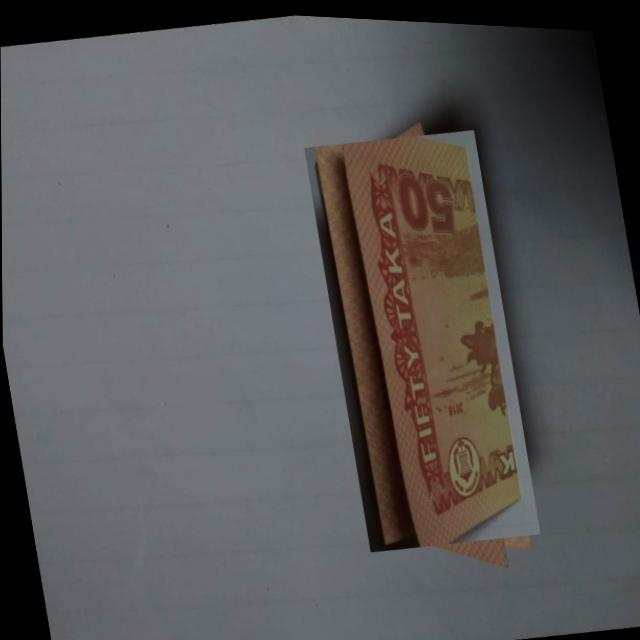Taka: (304, 118, 540, 555)
